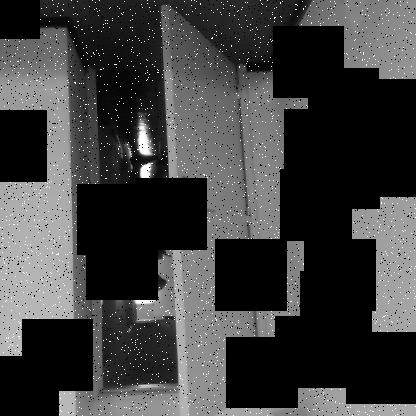Porte: (82, 3, 278, 415)
